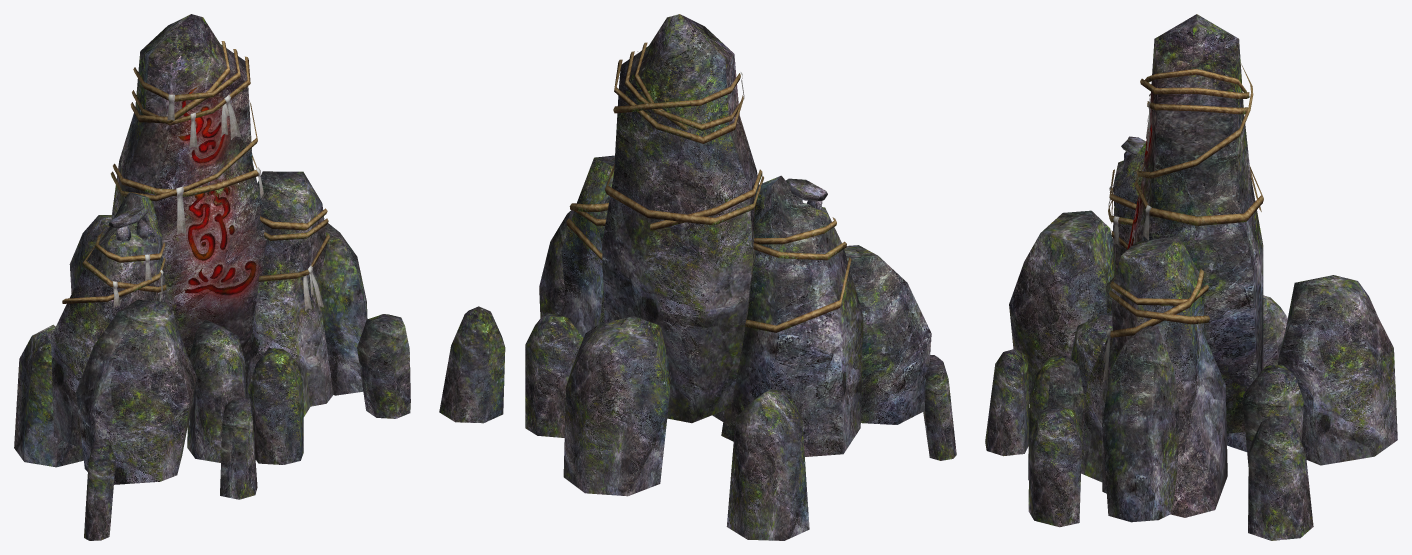
File: cairn_01_00.glb
The picture shows the model from 3 angles, left to right: view 1: azimuth 30°, elevation 25°; view 2: azimuth 150°, elevation 25°; view 3: azimuth 270°, elevation 25°; orthographic projection. The views are drawn at different scales.
Visible parts, largest first — view 1: cairn_01_00; view 2: cairn_01_00; view 3: cairn_01_00.
Boxes of the visible parts, x1,y1,x2,y2 form: cairn_01_00: [14, 14, 410, 540]; cairn_01_00: [439, 14, 956, 540]; cairn_01_00: [985, 14, 1397, 540].
Size of the model in its own units: 31.3 by 35.22 by 27.41.
1 material, 1 textured.
